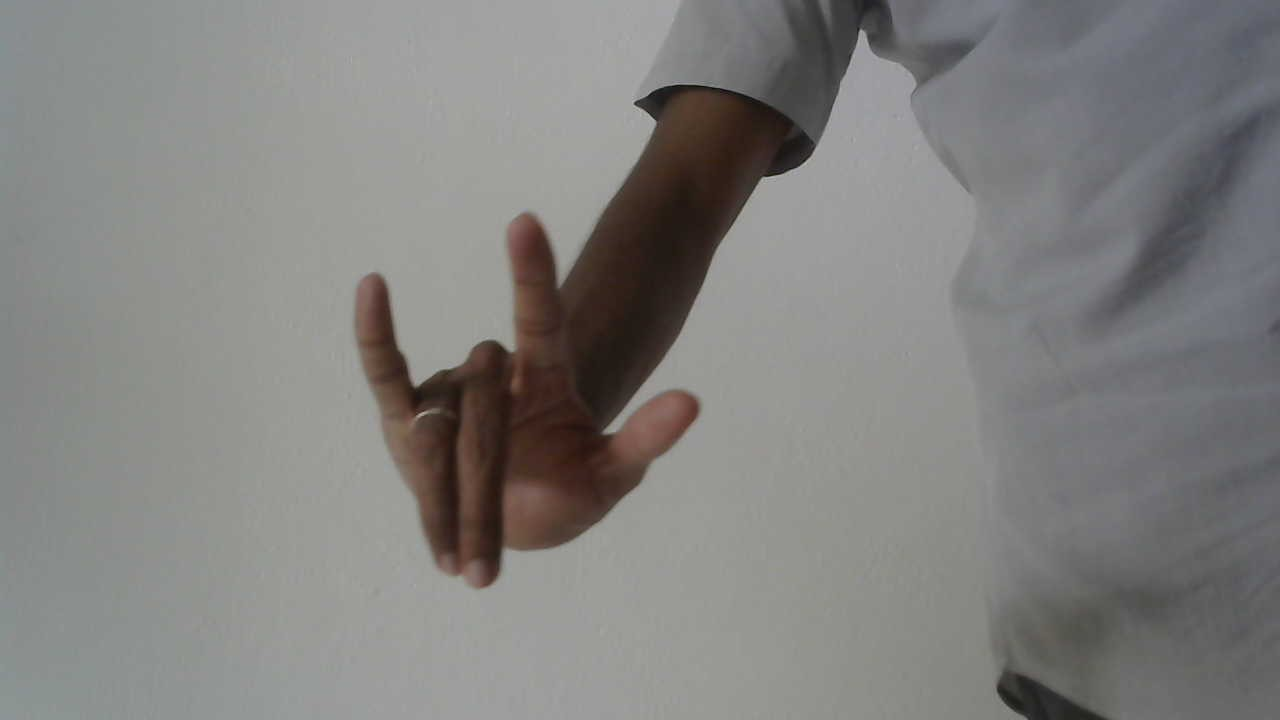iloveyou: (341, 207, 717, 602)
